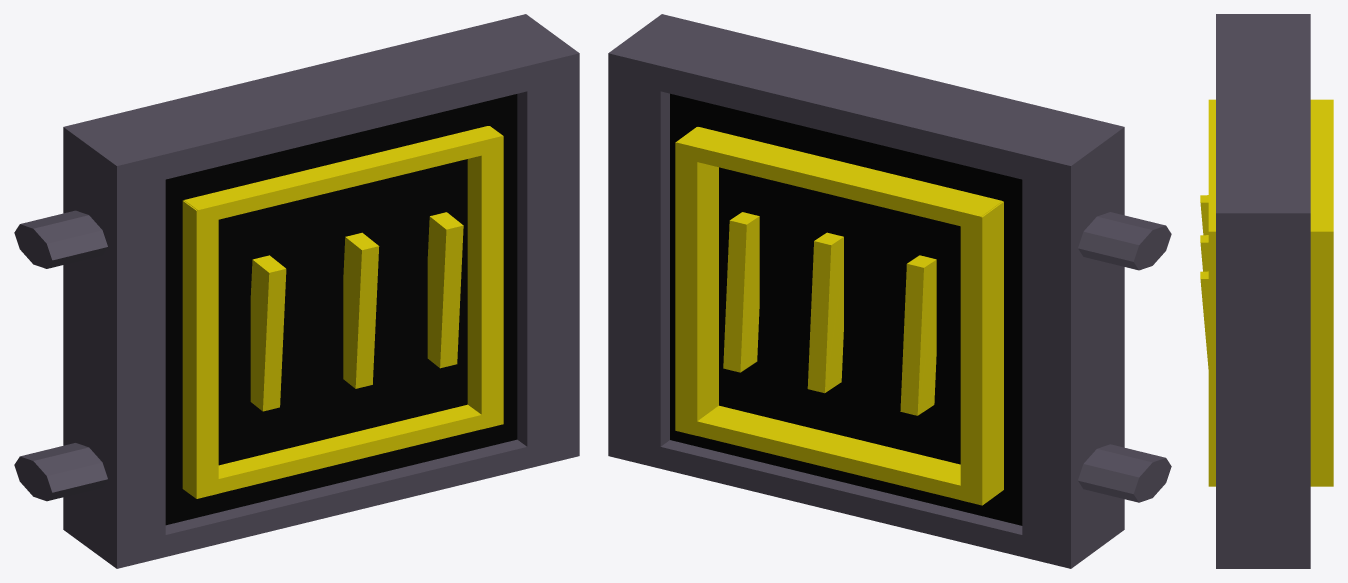
File: Neon_Lines_square.fbx
3 views of the same model, side by side, from view 1: azimuth 30°, elevation 25°; view 2: azimuth 150°, elevation 25°; view 3: azimuth 270°, elevation 25° (orthographic). The views are drawn at different scales.
Parts seen in each view (by area): view 1: NeonSign_Square6, Neon_Lines_square; view 2: NeonSign_Square6, Neon_Lines_square; view 3: NeonSign_Square6, Neon_Lines_square.
Boxes of the visible parts, bbox=[...] form: NeonSign_Square6: bbox=[14, 14, 579, 568]; Neon_Lines_square: bbox=[182, 126, 503, 498]; NeonSign_Square6: bbox=[608, 14, 1171, 568]; Neon_Lines_square: bbox=[675, 127, 1003, 505]; NeonSign_Square6: bbox=[1216, 14, 1310, 568]; Neon_Lines_square: bbox=[1200, 99, 1333, 486].
Bounding box in the file's own units: 1.12 × 0.8317 × 0.282.
